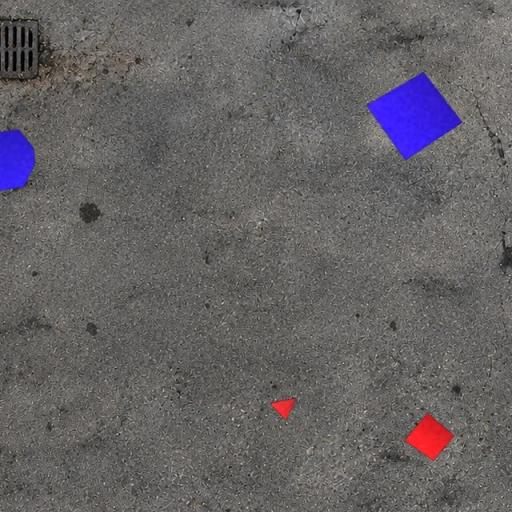BLUE_SQUARE: (366, 71, 463, 161)
RED_SQUARE: (404, 412, 455, 461)
